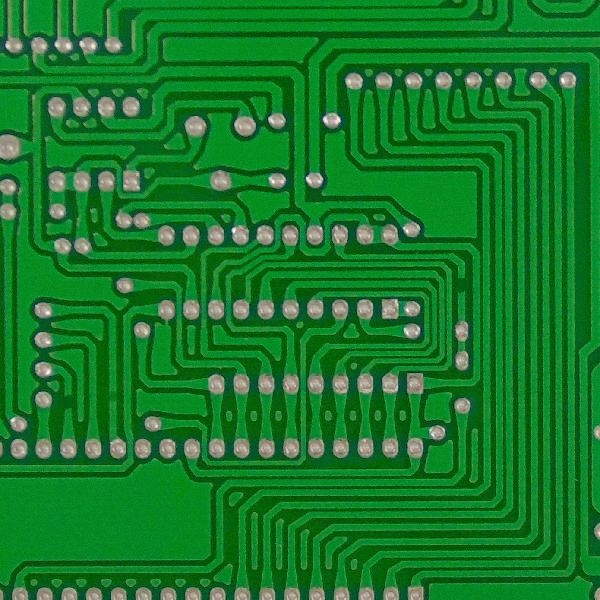open_circuit: (454, 273, 468, 296), (61, 392, 74, 413)
